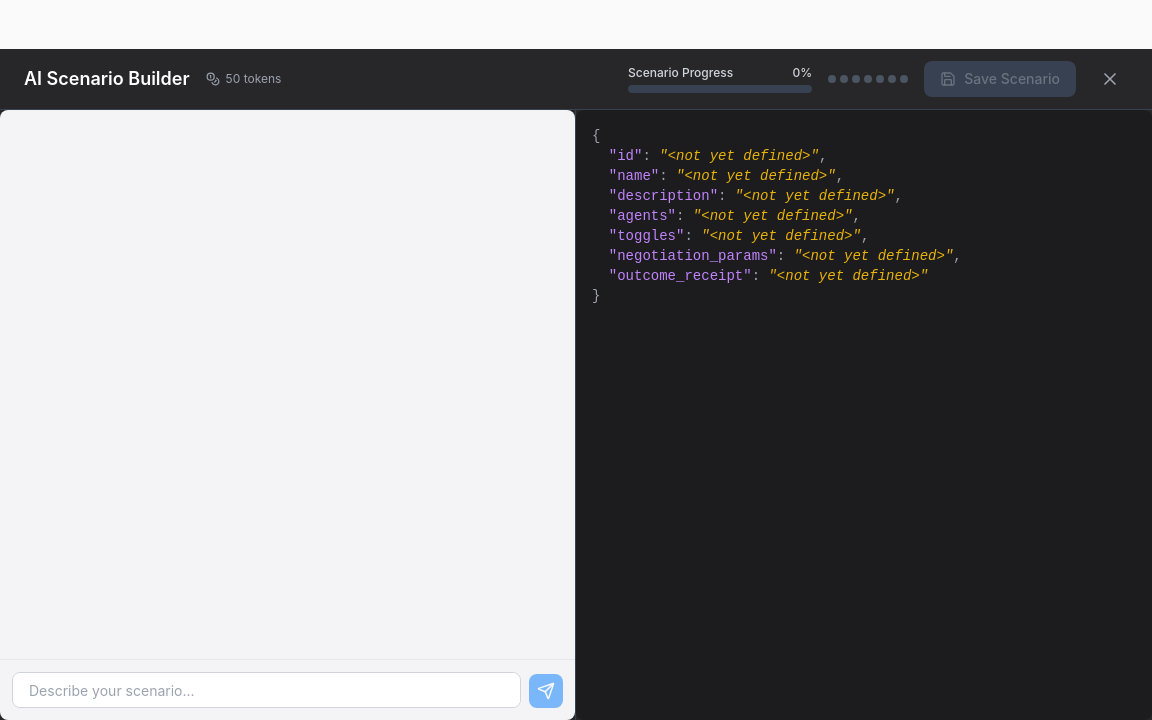
Test case: BuilderModal close confirmation › shows save error when saveScenario fails
Type "Build" into the text box with test id "chat-input" at [266, 690], box [12, 672, 521, 708]
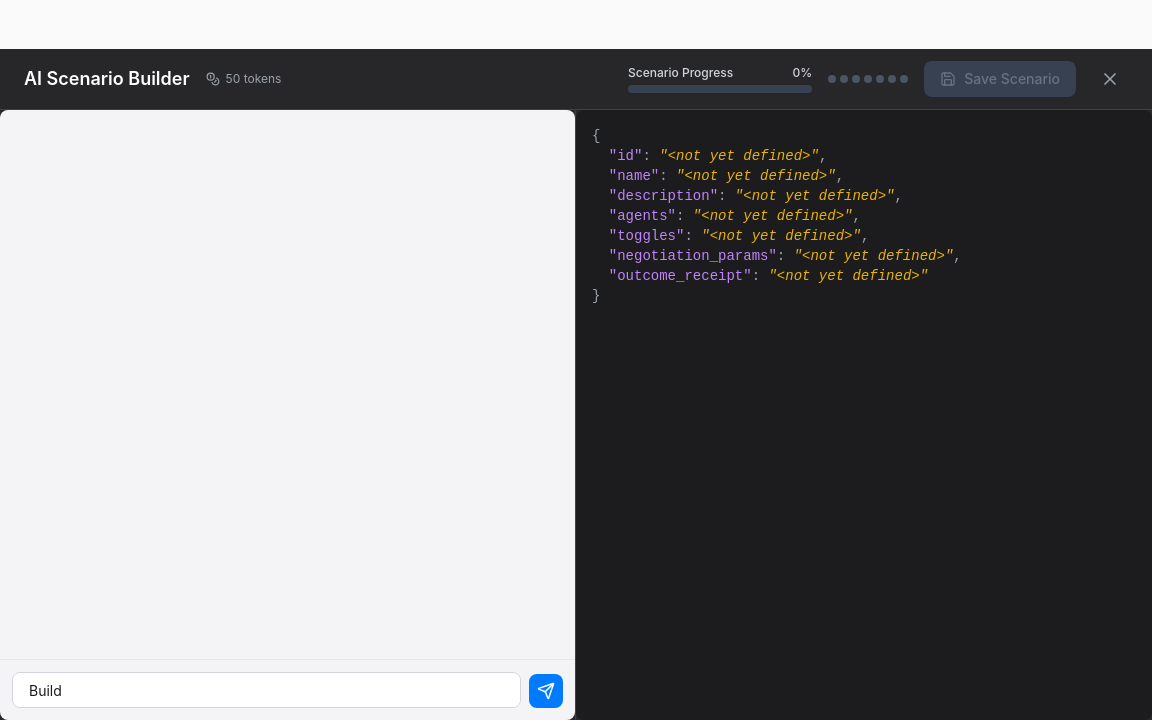
Click the button with test id "send-button" at [546, 691], box [529, 674, 563, 708]
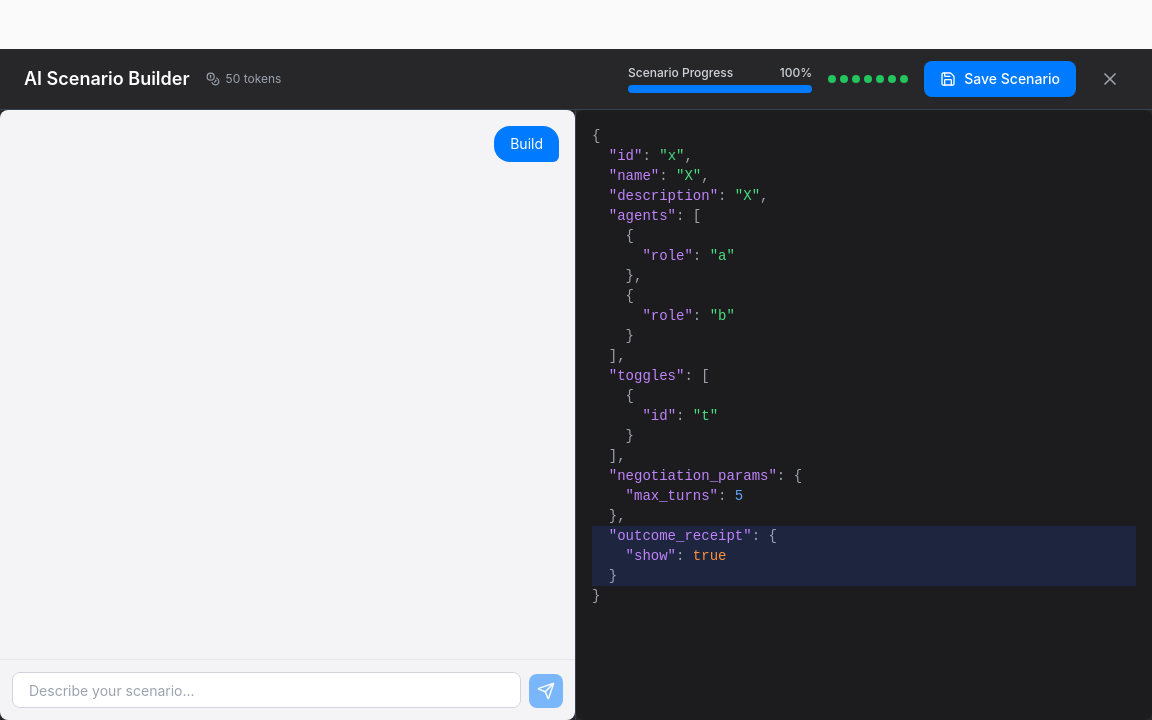
Result: the button with test id "save-button" is enabled
Click the button with test id "save-button" at [1000, 79], box [924, 61, 1076, 97]
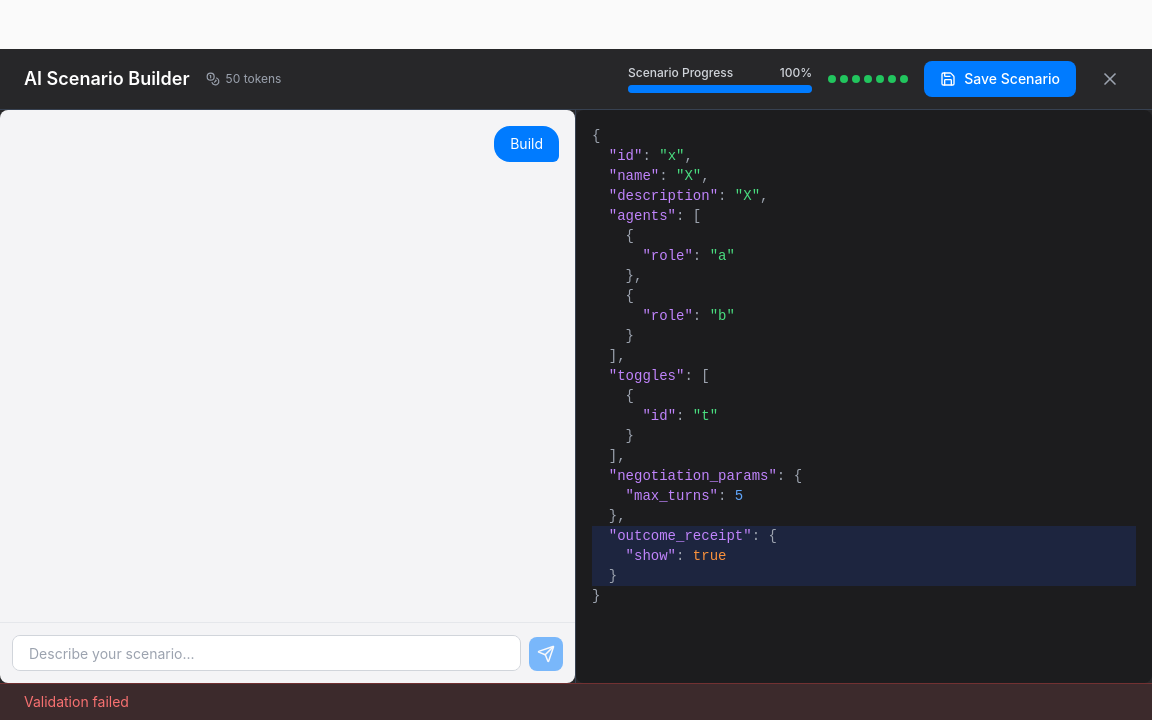
Result: the text "Validation failed" is shown at [24, 693, 129, 710]
